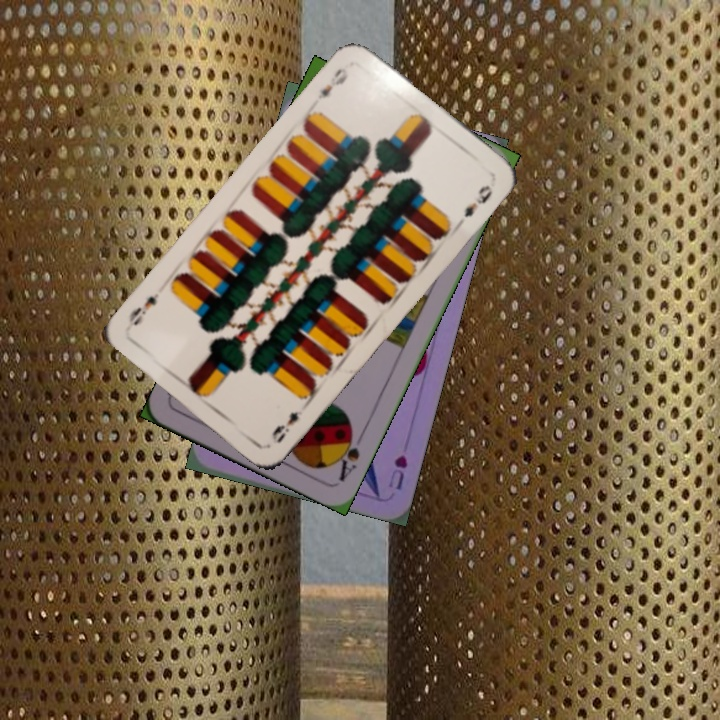E9: (267, 406, 305, 447), (313, 63, 351, 102)
HU: (384, 451, 410, 492)
SA: (331, 424, 366, 485)
